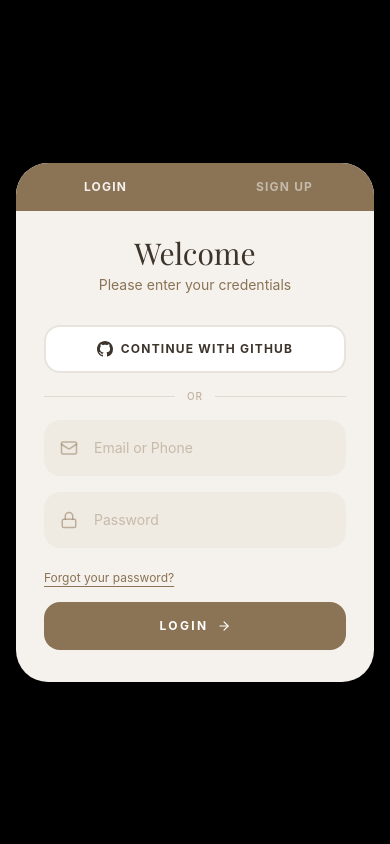
Test: AuthModal — signup › switches to the signup form
Click the button "Sign Up": (284, 186) [195,162,374,210]
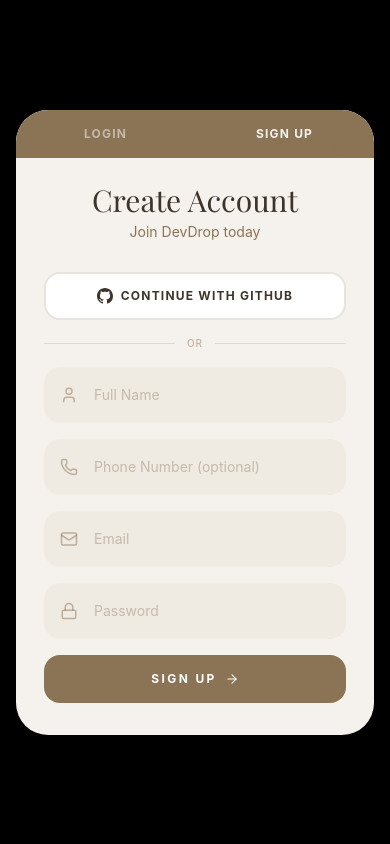
Expected: the field with placeholder "Full Name" is shown, [44,366,346,422]
